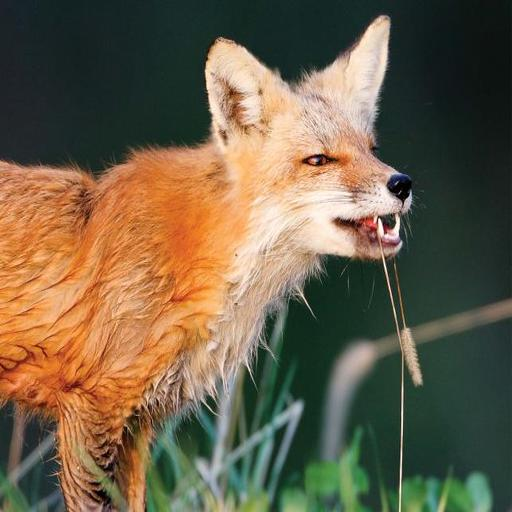Fox: (0, 12, 418, 510)
